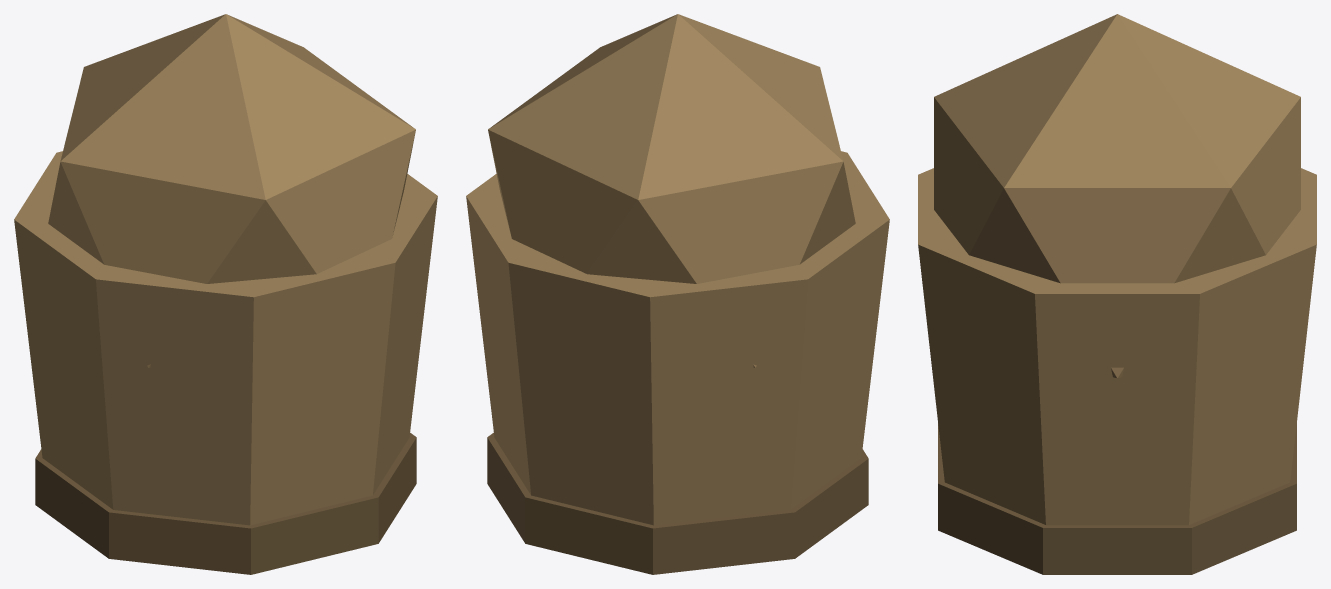
The model's file is inf_v2_walker_upper_arm_l.fbx.
3 renders of one model, left to right at view 1: azimuth 30°, elevation 25°; view 2: azimuth 150°, elevation 25°; view 3: azimuth 270°, elevation 25°, orthographic.
Parts seen in each view (by area): view 1: inf_v2_walker_upper_arm_l; view 2: inf_v2_walker_upper_arm_l; view 3: inf_v2_walker_upper_arm_l.
Boxes of the visible parts, box(x1,y1,x2,y2) form: inf_v2_walker_upper_arm_l: box(14, 14, 437, 574); inf_v2_walker_upper_arm_l: box(466, 14, 889, 574); inf_v2_walker_upper_arm_l: box(918, 14, 1316, 574).
Bounding box in the file's own units: 92.39 × 124 × 92.39.
